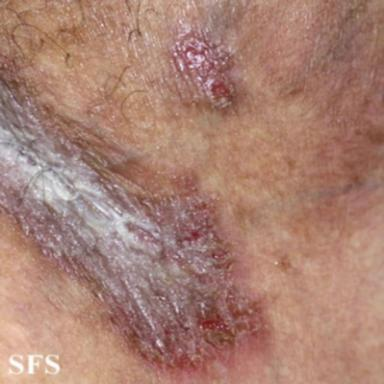Hailey-Hailey-Disease: (1, 50, 270, 380), (166, 30, 244, 114)
